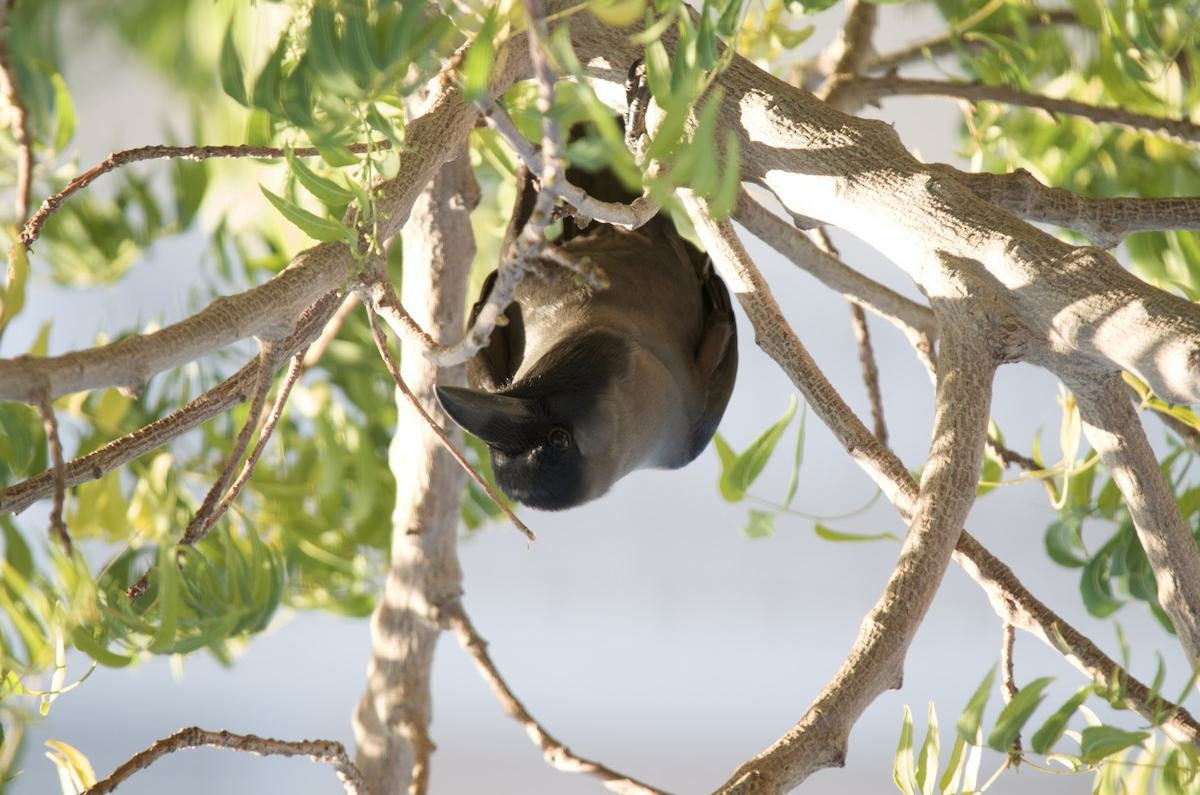crow: (436, 139, 742, 521)
